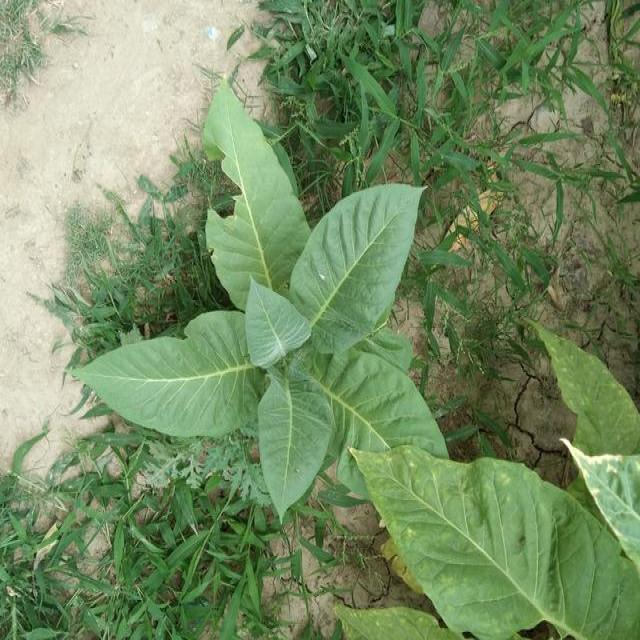crop: (69, 78, 470, 526)
